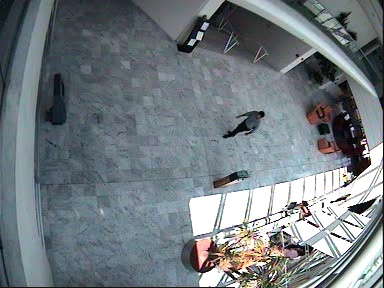person: (222, 111, 264, 138), (282, 200, 313, 218)
